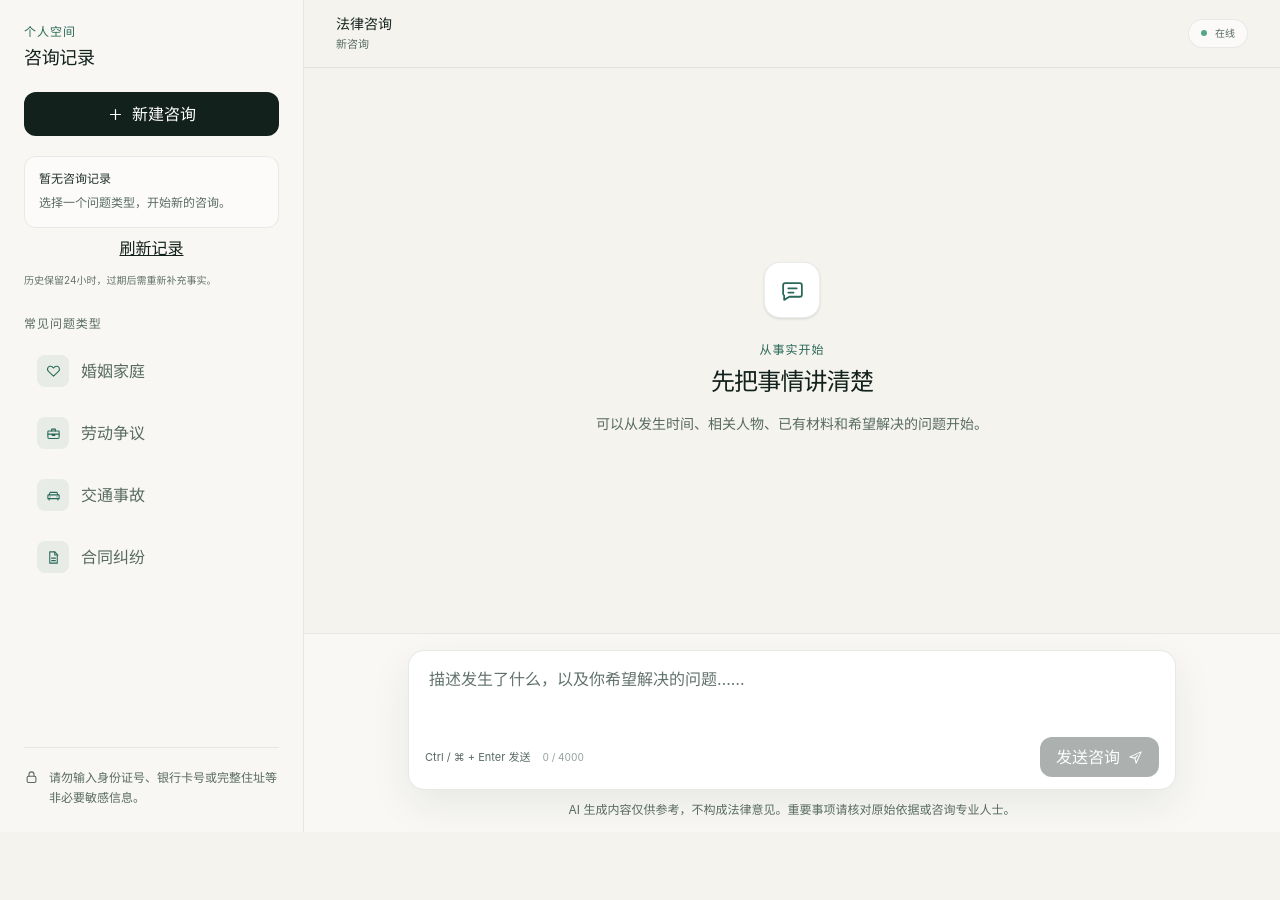
it: ChatView › submits a real API question and presents user-facing answer metadata
Type "公司拖欠工资，我应该准备什么材料？" into the text box with placeholder "描述发生了什么，以及你希望解决的问题……" at coordinates (792, 695), box left=417, top=659, right=1167, bottom=731
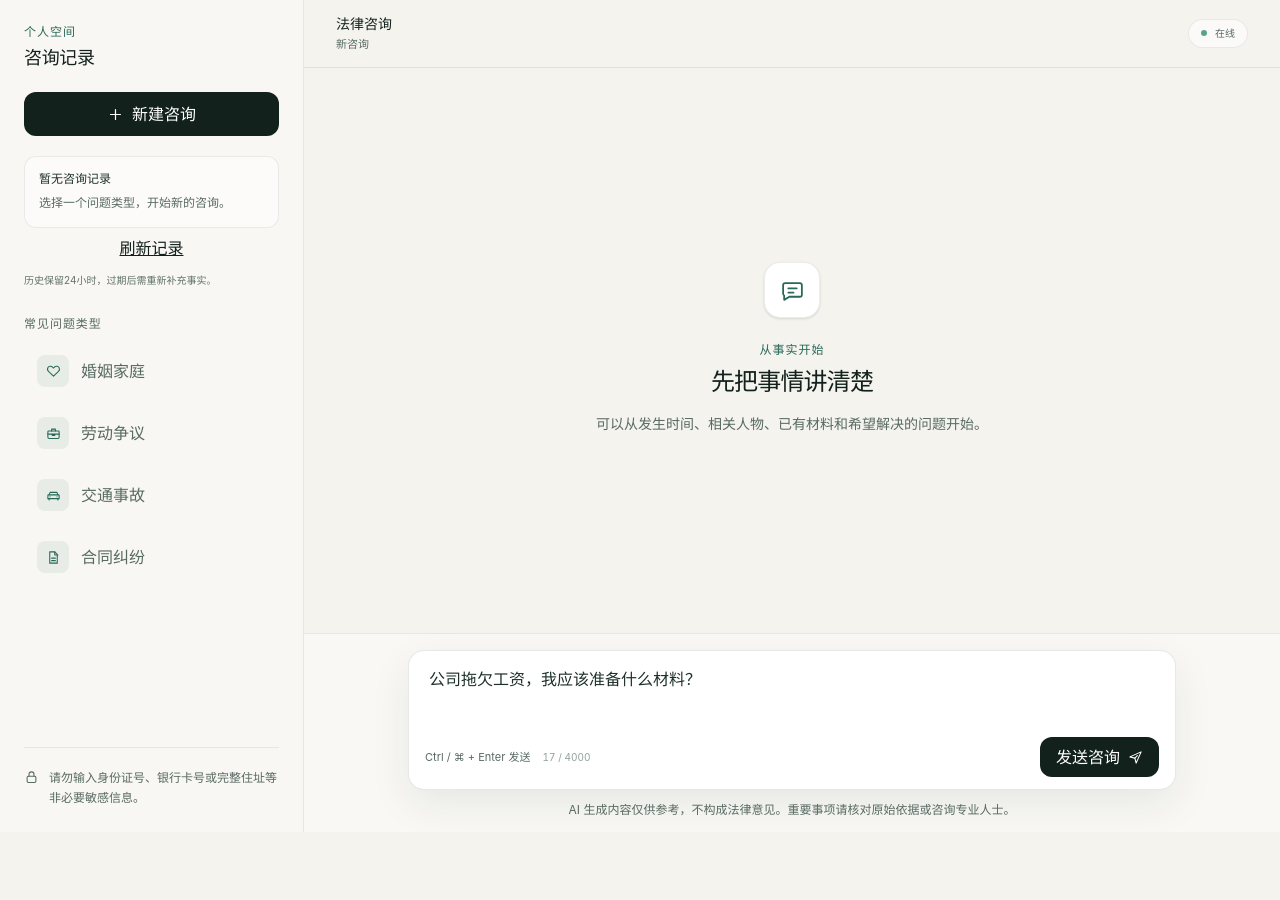
Submit the form, box left=408, top=650, right=1176, bottom=790
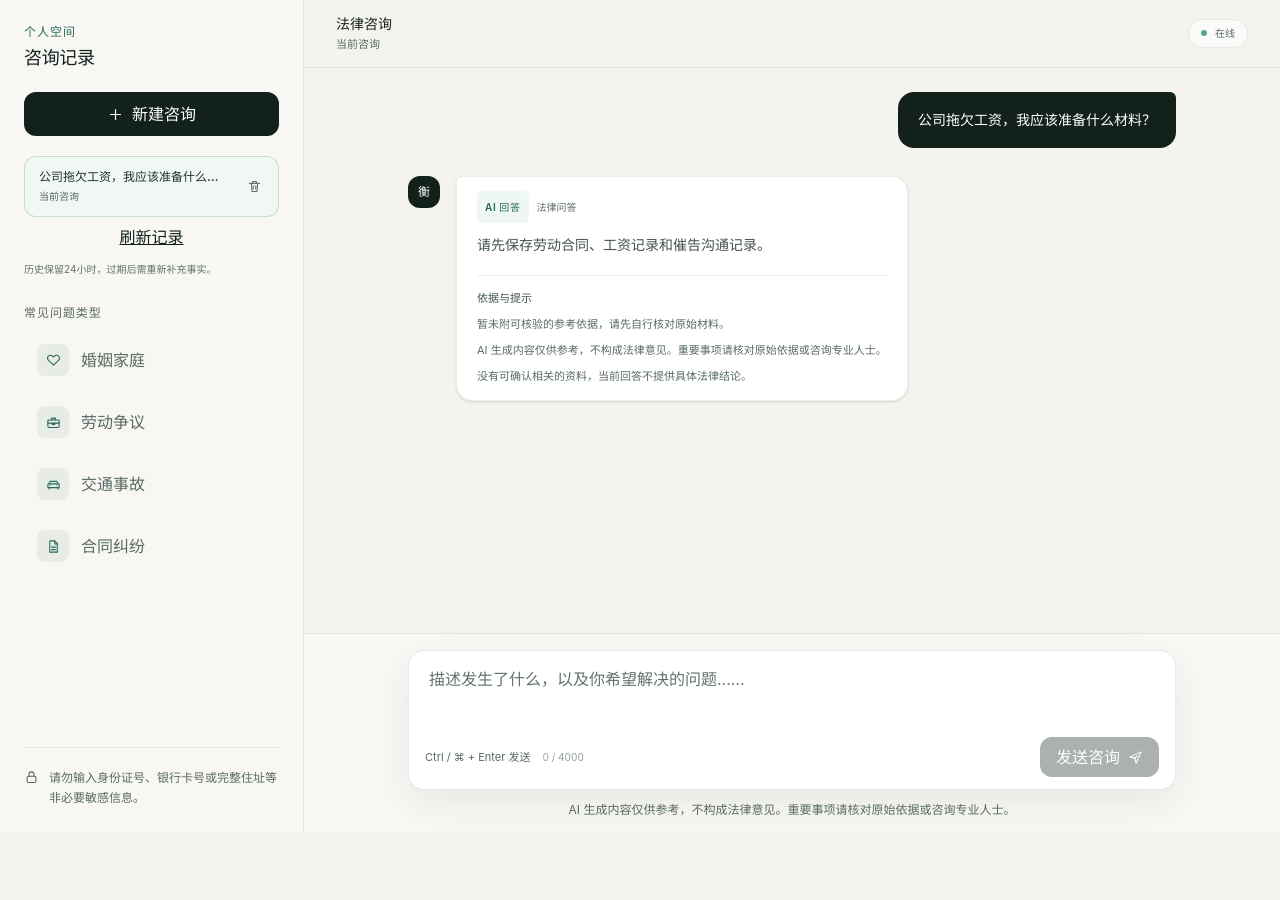
Expected: the text "请先保存劳动合同、工资记录和催告沟通记录。" is shown, left=477, top=236, right=771, bottom=252
Expected: the text "AI 回答" is shown, left=477, top=190, right=529, bottom=222
Expected: the text "法律问答" is shown, left=537, top=200, right=577, bottom=212
